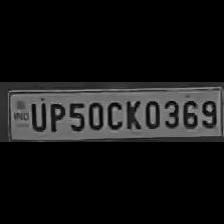0: (141, 97, 161, 129), (86, 98, 104, 130)
3: (161, 96, 179, 130)
5: (65, 98, 85, 132)
6: (180, 96, 198, 130)
9: (198, 96, 218, 130)
C: (104, 97, 122, 130)
K: (122, 97, 140, 131)
P: (46, 99, 64, 133)
U: (26, 100, 46, 132)
